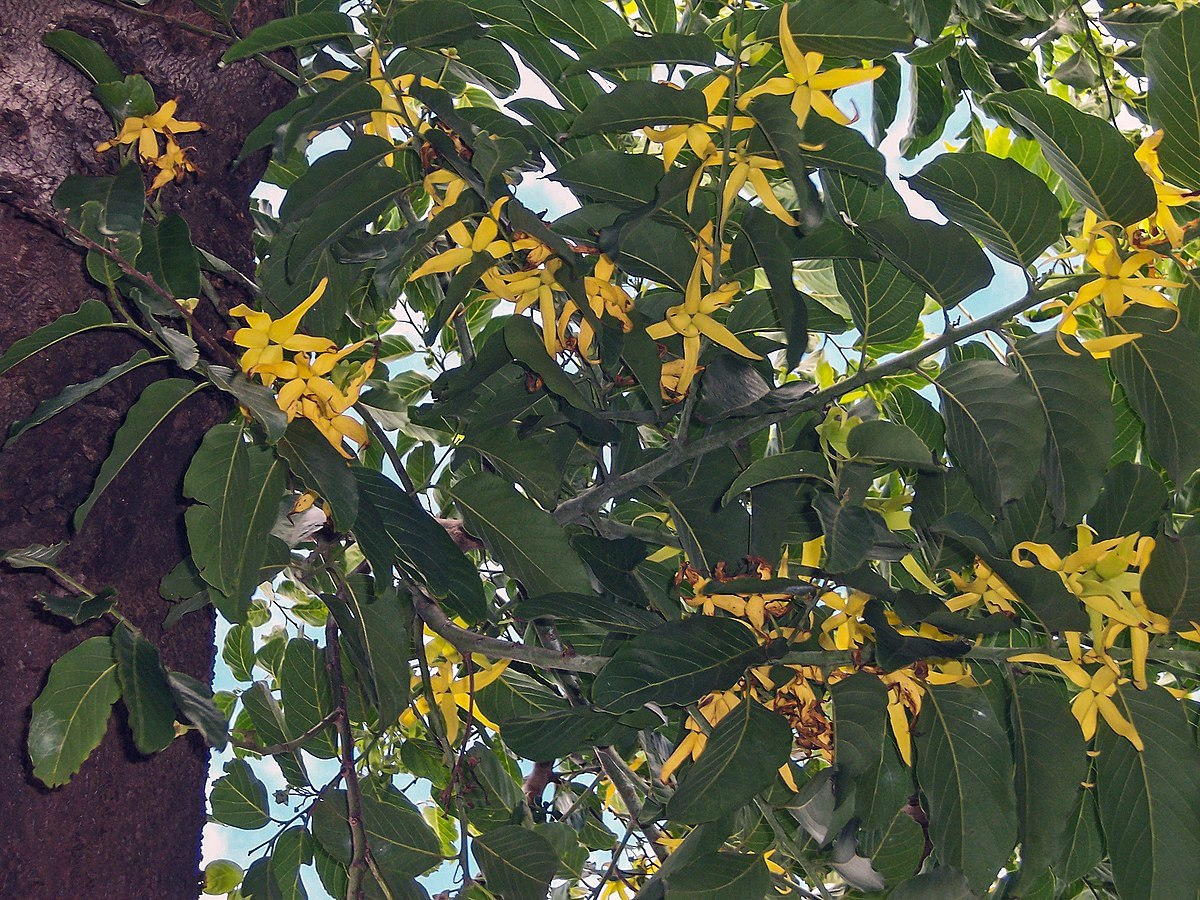ylang-ylang: (657, 525, 1176, 734), (391, 192, 640, 349), (682, 58, 847, 248), (213, 274, 384, 453), (1060, 180, 1199, 368), (98, 72, 243, 232), (351, 35, 448, 152), (661, 241, 722, 368)
